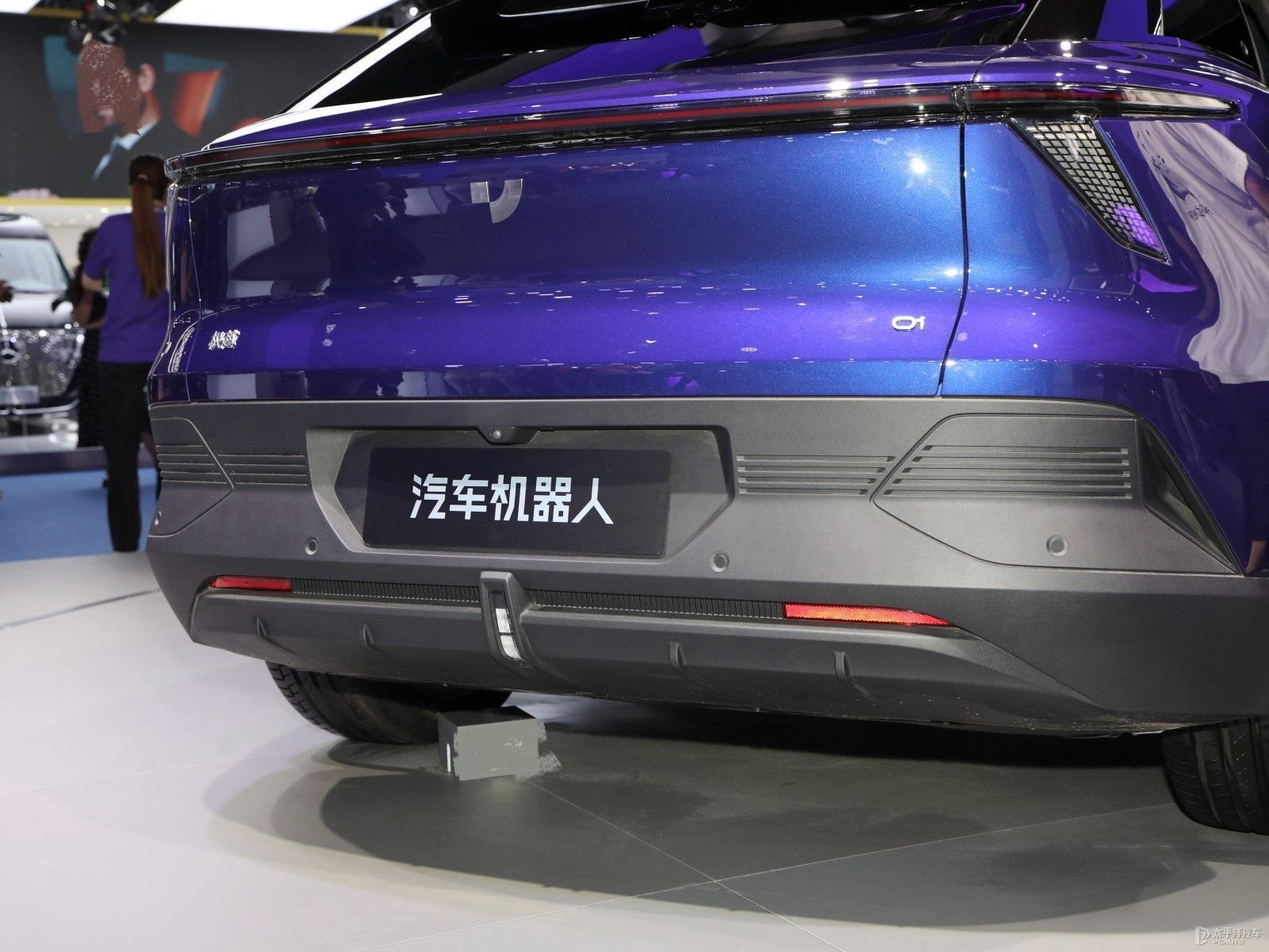JIYUE: (469, 178, 527, 224)
